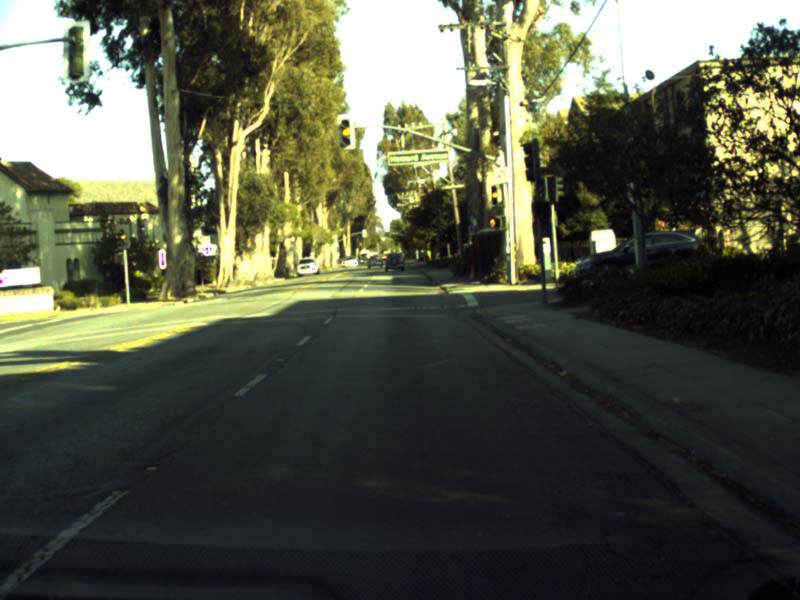Yellow: (340, 120, 351, 146), (116, 227, 126, 245), (490, 186, 498, 203)
